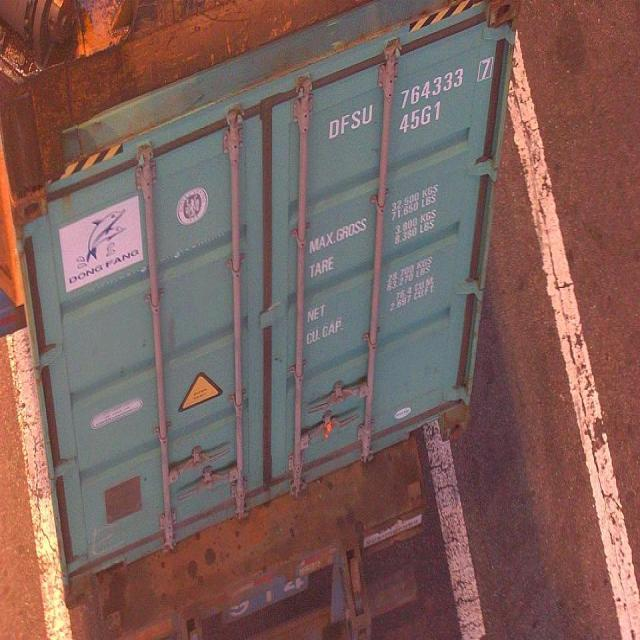ISO: (401, 95, 444, 137)
container_number: (326, 53, 497, 144)
